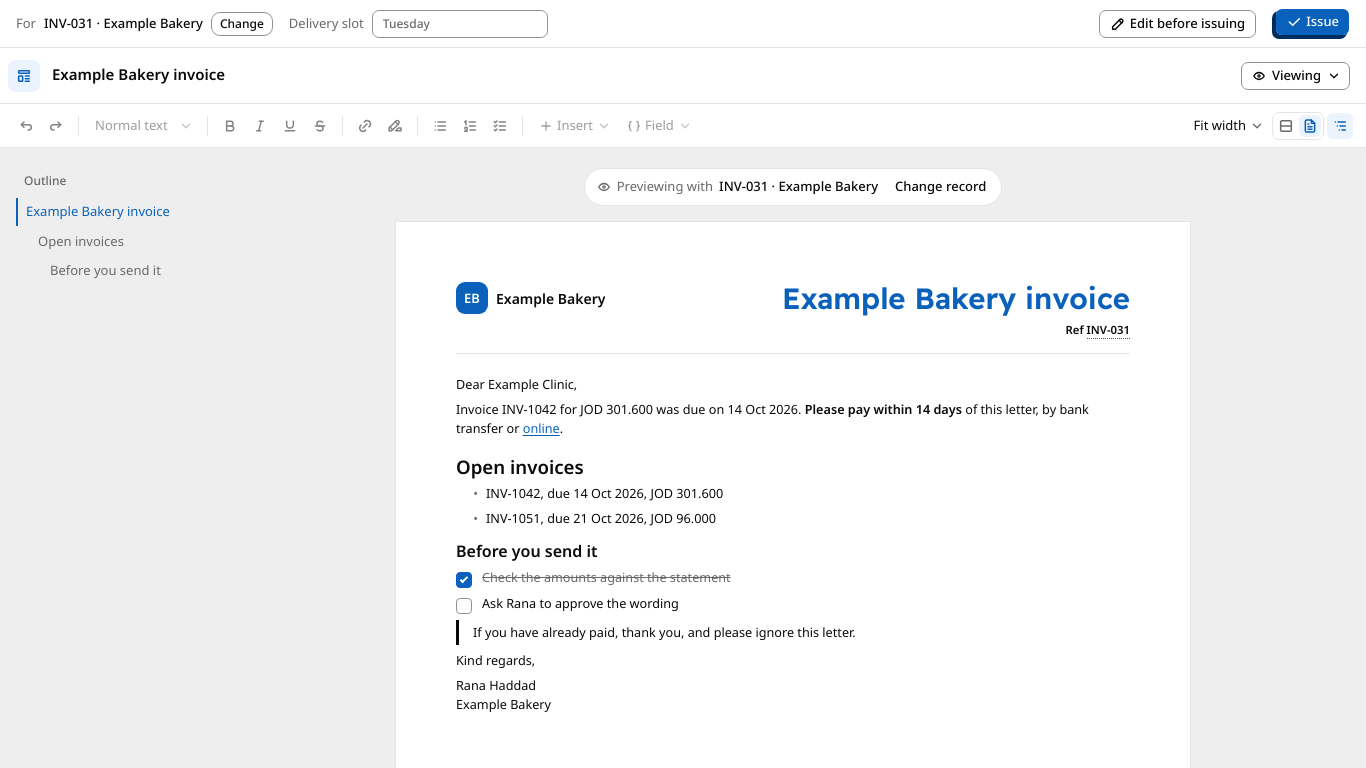
Scenario: issuing mode (M4c) › shows the refusal plainly, naming own fields by their label
This screenshot has width=1366, height=768.
Click the button "Issue": (1313, 22) x1=1275 y1=8 x2=1350 y2=36
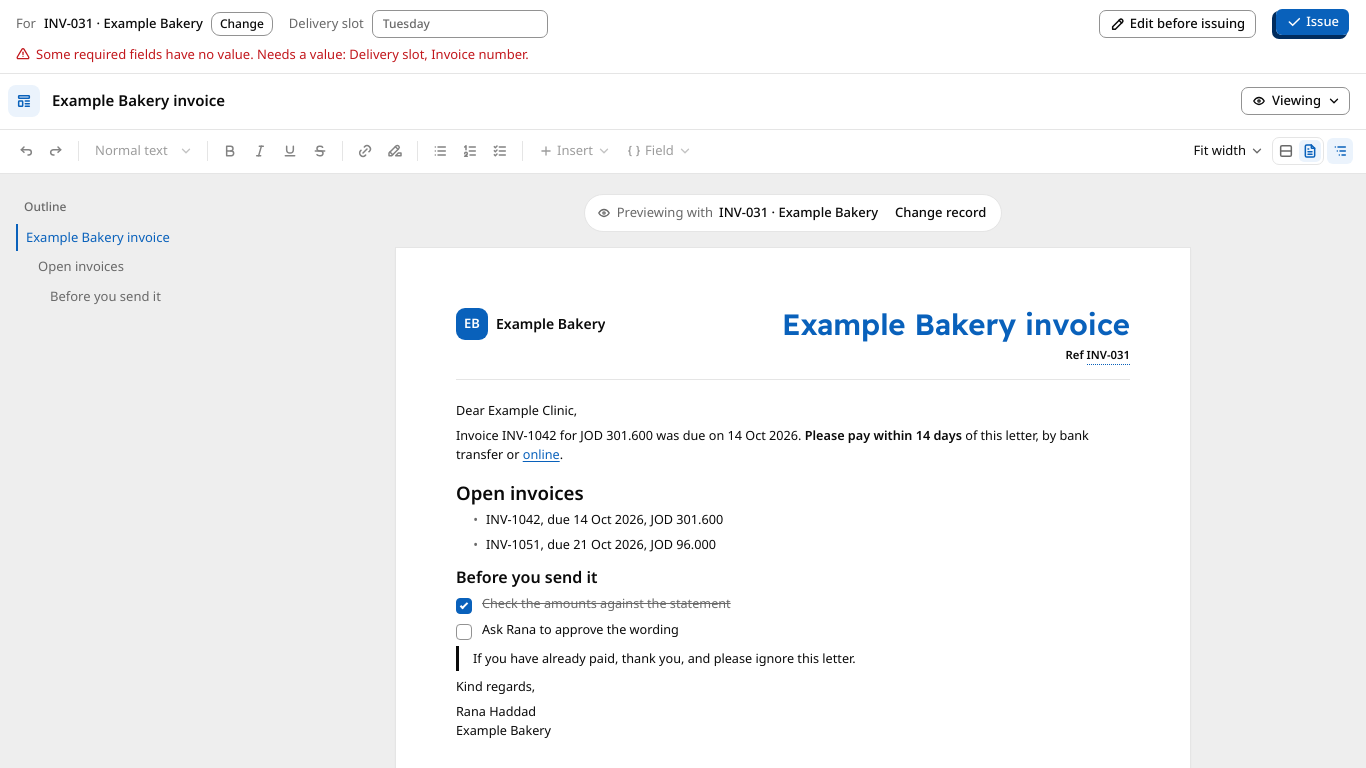
Expected: the message that starts with "Some required fields have no value" is shown, x1=36 y1=45 x2=250 y2=63
Expected: the message that starts with "Some required fields have no value" shows "Some required fields have no value. Needs a value: Delivery slot, Invoice number.", x1=16 y1=45 x2=529 y2=63
